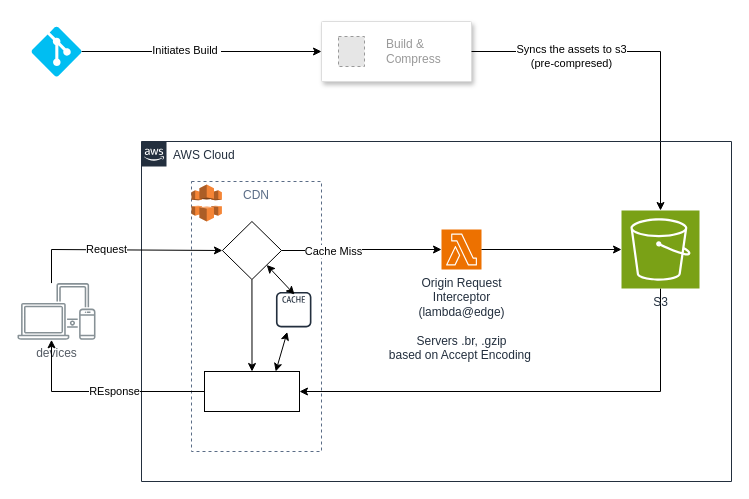
The diagram is 749 pixels wide and 499 high, and some of its shapes have lost their labels. Grey dashed boxes stand in for pictures. The shapes that lost their labels are listed below. From the top down, each one's centre as x and y in pixels, then its label:
pixel 251 250: In Cache
pixel 252 391: Send Response
